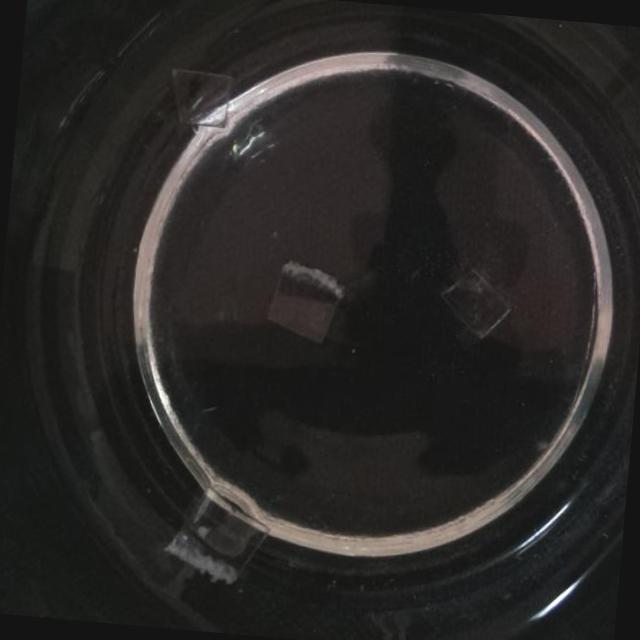fiber: (158, 481, 274, 588), (265, 257, 350, 351), (438, 266, 516, 344), (163, 61, 236, 132)
